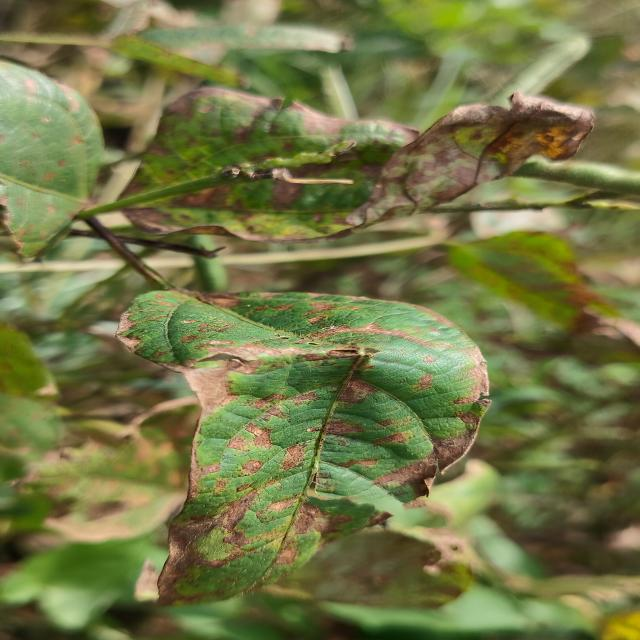Black gram_leaf spot: (103, 280, 490, 611), (122, 85, 594, 245), (0, 50, 115, 265)
